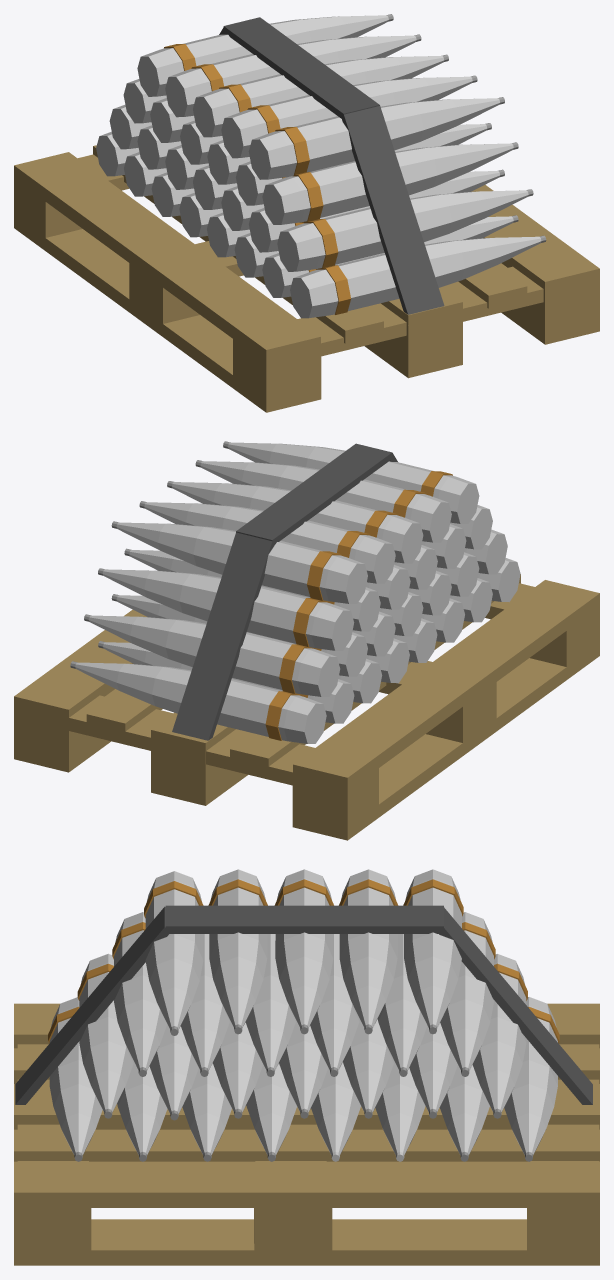
Rendered from cartridges4.fbx.
3 views of the same model, one above another, from view 1: azimuth 30°, elevation 25°; view 2: azimuth 150°, elevation 25°; view 3: azimuth 270°, elevation 25° (orthographic). The views are drawn at different scales.
Parts seen in each view (by area): view 1: Cube_1; view 2: Cube_1; view 3: Cube_1.
Boxes of the visible parts, box(x1,y1,x2,y2) form: Cube_1: box(14, 14, 599, 412); Cube_1: box(14, 441, 599, 840); Cube_1: box(14, 869, 599, 1265).
Size of the model in its own units: 113 by 70.15 by 148.
